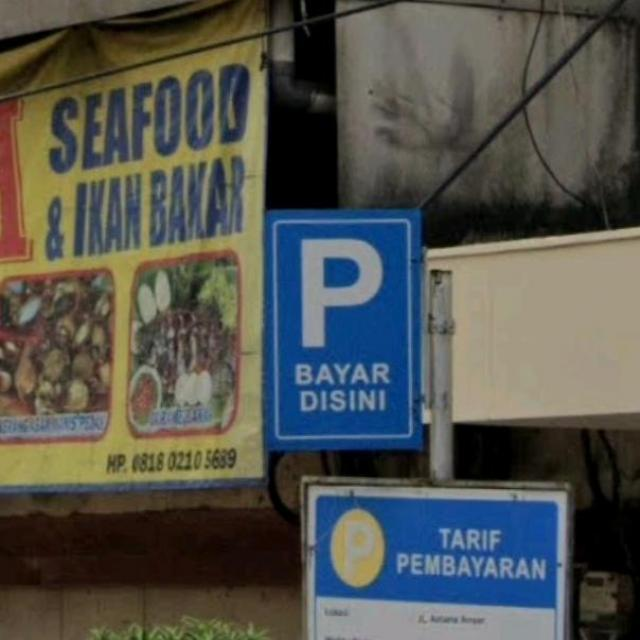traffic sign: (260, 214, 426, 451)
